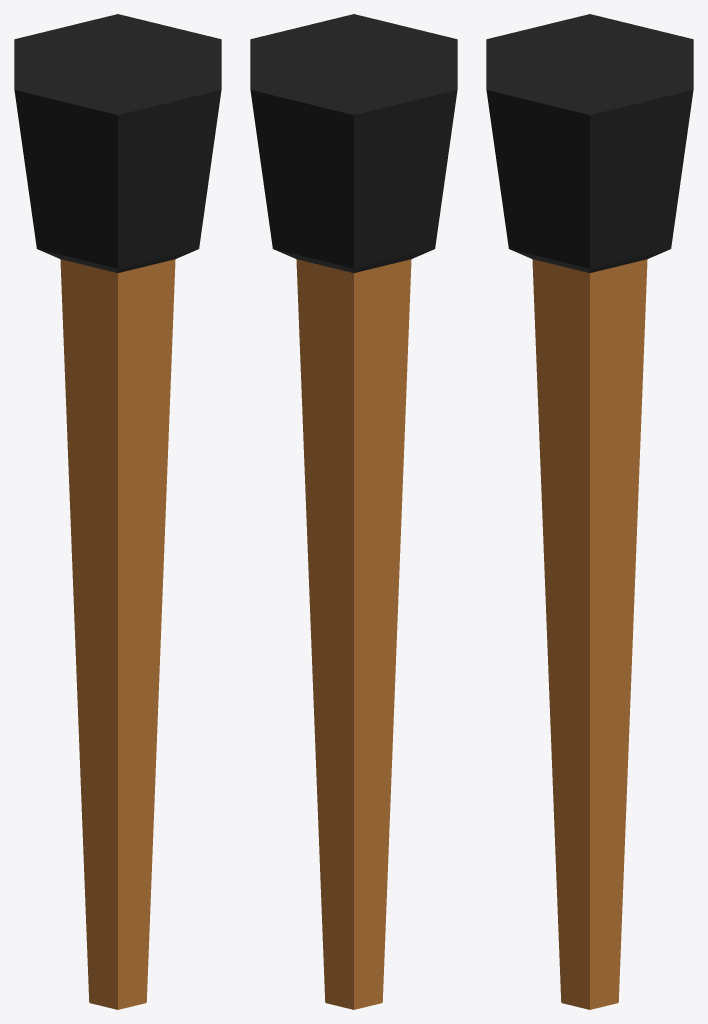
The model's file is Prop_Gothic_Sconce_Timber_Torch_02.FBX.
3 renders of one model, left to right at view 1: azimuth 30°, elevation 25°; view 2: azimuth 150°, elevation 25°; view 3: azimuth 270°, elevation 25°, orthographic.
Visible parts, largest first — view 1: Prop_Gothic_Sconce_Timber_Torch_02; view 2: Prop_Gothic_Sconce_Timber_Torch_02; view 3: Prop_Gothic_Sconce_Timber_Torch_02.
Boxes of the visible parts, x1=… form: Prop_Gothic_Sconce_Timber_Torch_02: x1=14, y1=14, x2=221, y2=1009; Prop_Gothic_Sconce_Timber_Torch_02: x1=250, y1=14, x2=457, y2=1009; Prop_Gothic_Sconce_Timber_Torch_02: x1=486, y1=14, x2=693, y2=1009.
Size of the model in its own units: 109 by 468 by 94.36.
